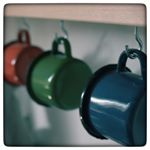cups: (75, 48, 145, 145), (23, 36, 93, 107)
